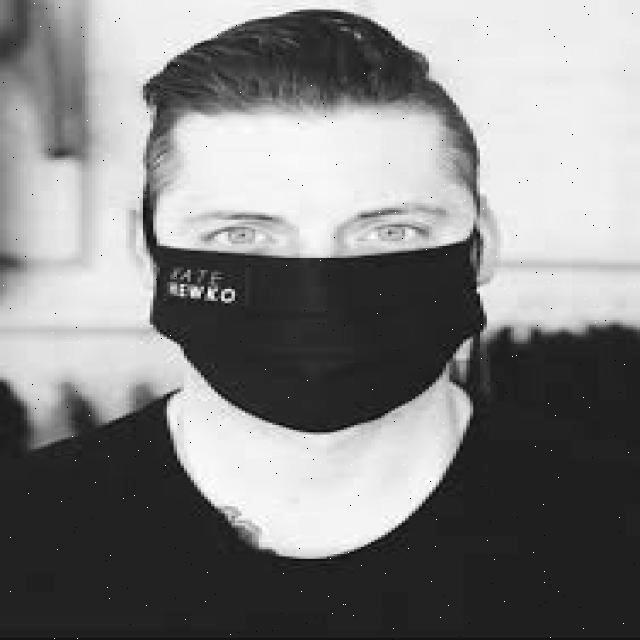fake: (148, 228, 506, 458)
real: (149, 105, 472, 443)
